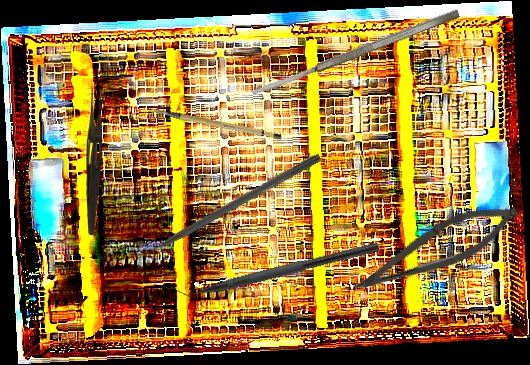Chopper: (164, 227, 381, 308)
Dressing Forceps: (86, 88, 102, 235)
Micro Scissor: (346, 187, 526, 315)
Pusher: (128, 150, 323, 266)
Scalpel Handle: (151, 88, 284, 157)
Spatula Surgical: (250, 7, 461, 99)
